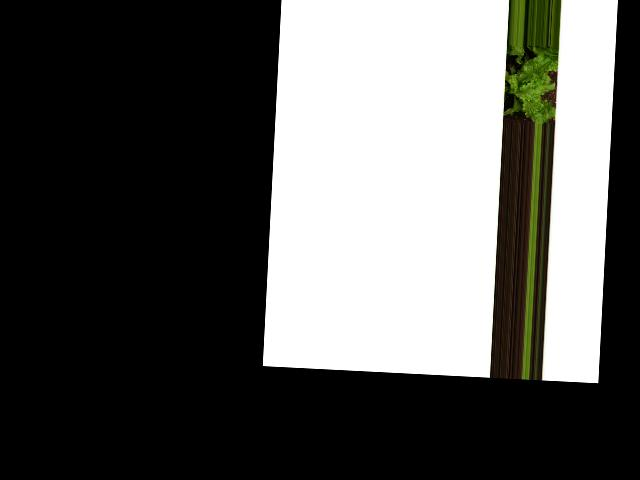lettuce: (499, 43, 556, 123)
